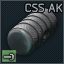AK CSS knurled charging handle: (0, 0, 64, 64)
